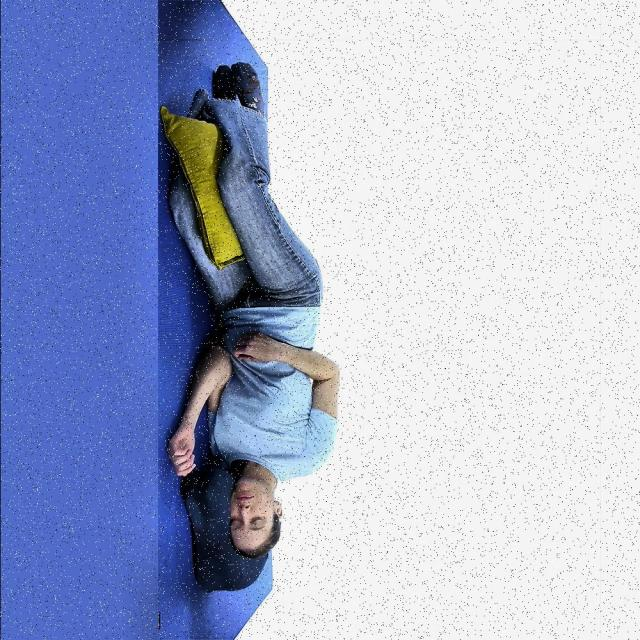Not_Supine: (169, 64, 339, 554)
